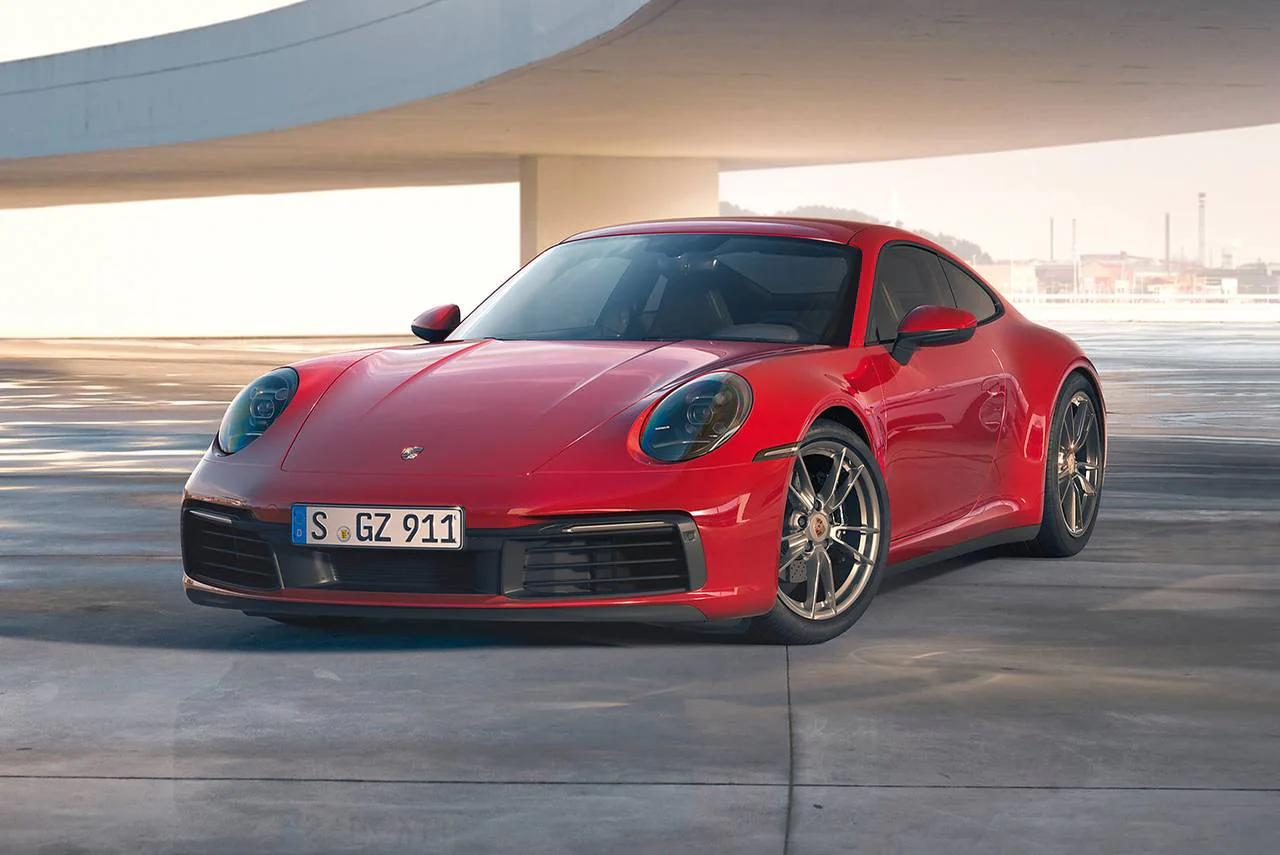porsche: (390, 440, 435, 469)
